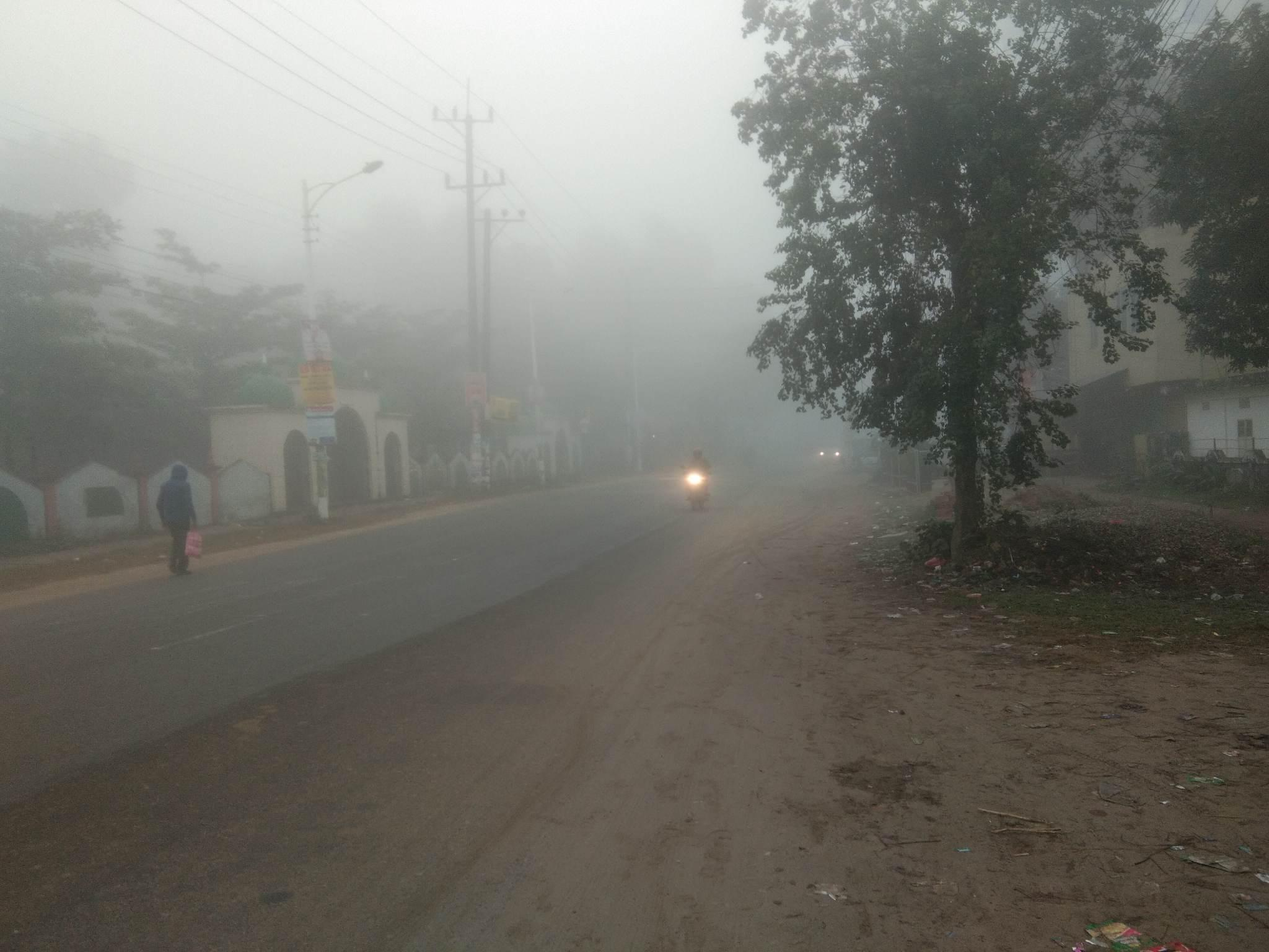Bike: (672, 443, 723, 519)
